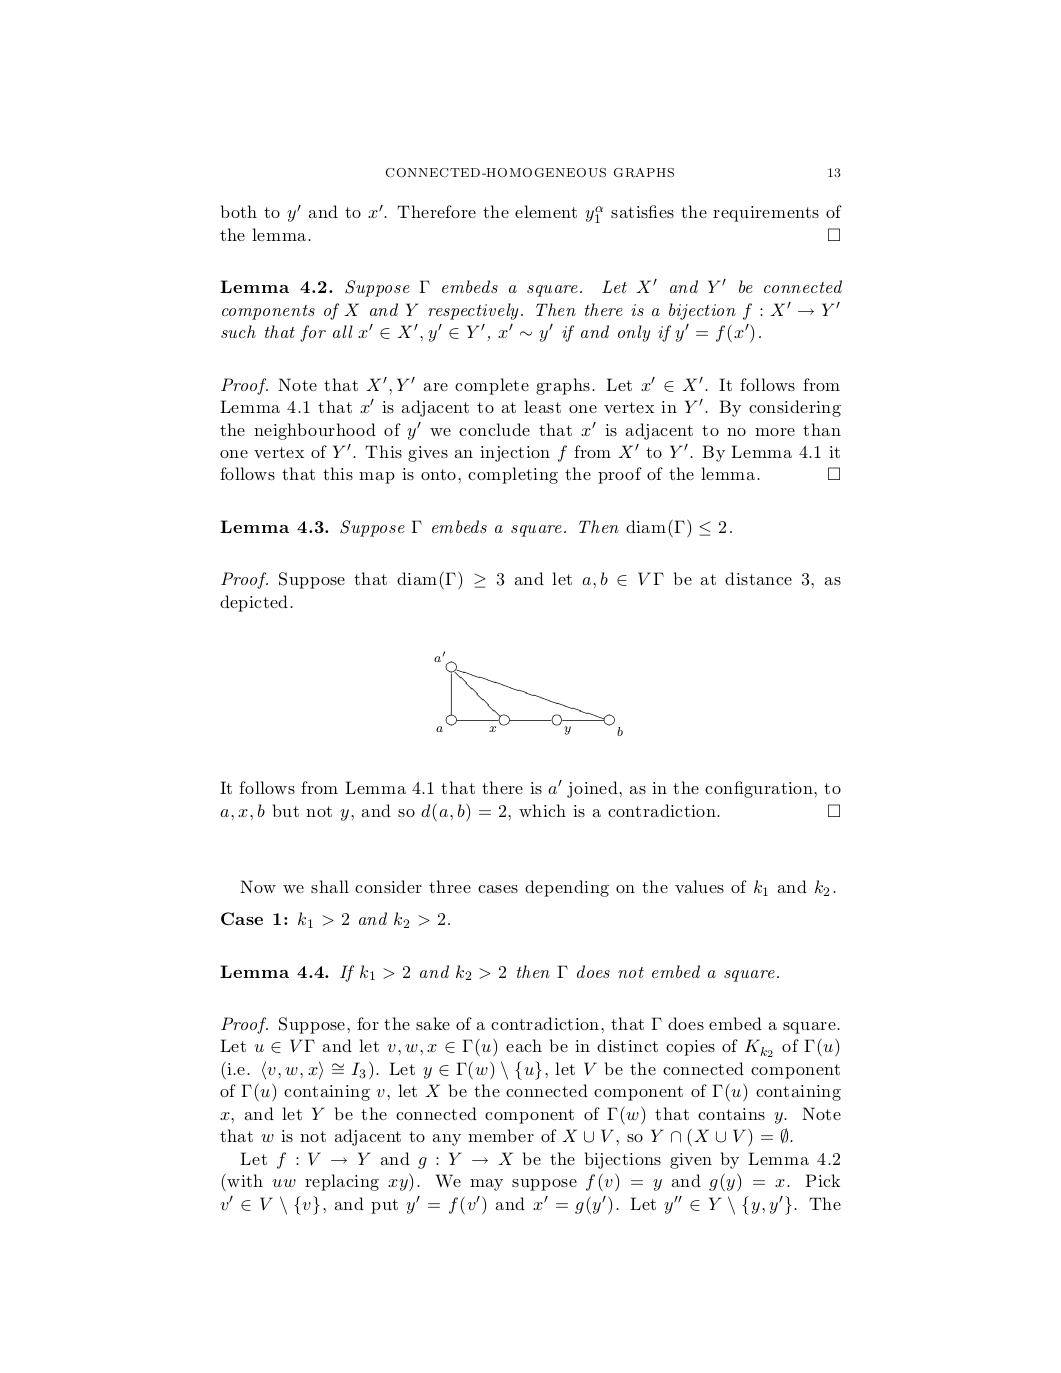figure: (434, 650, 622, 737)
